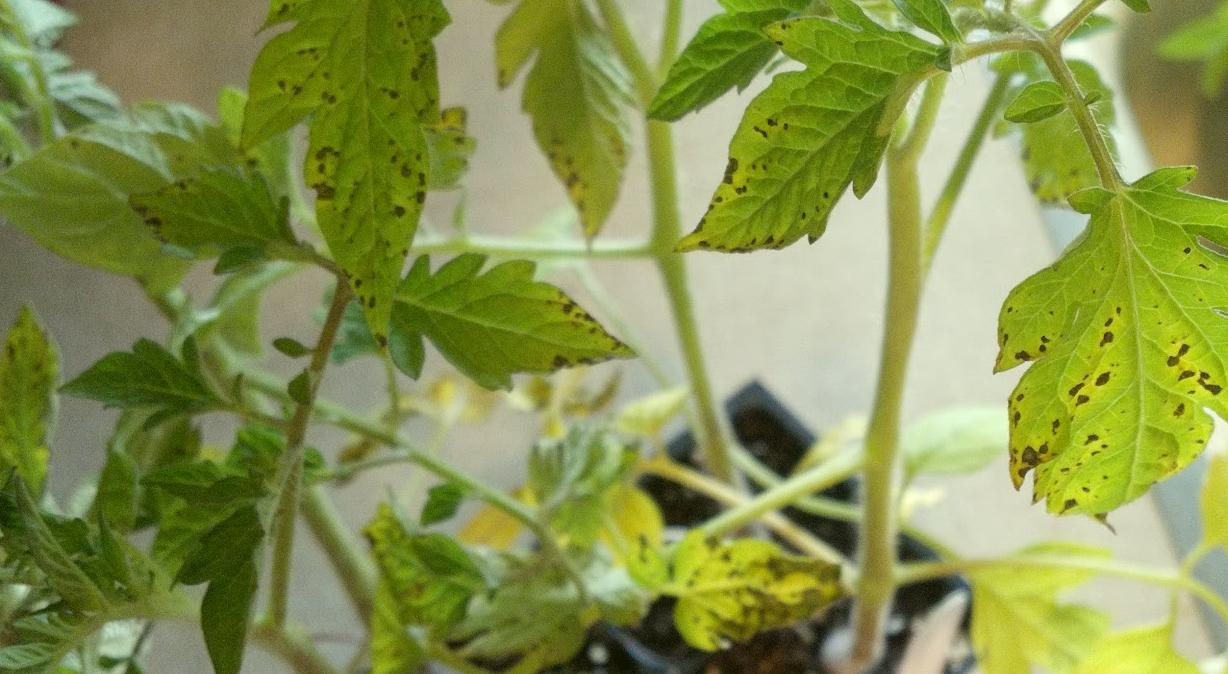Tomato Septoria leaf spot: (982, 191, 1228, 569), (229, 0, 465, 373), (649, 0, 968, 261), (344, 250, 651, 420), (651, 516, 861, 670)
